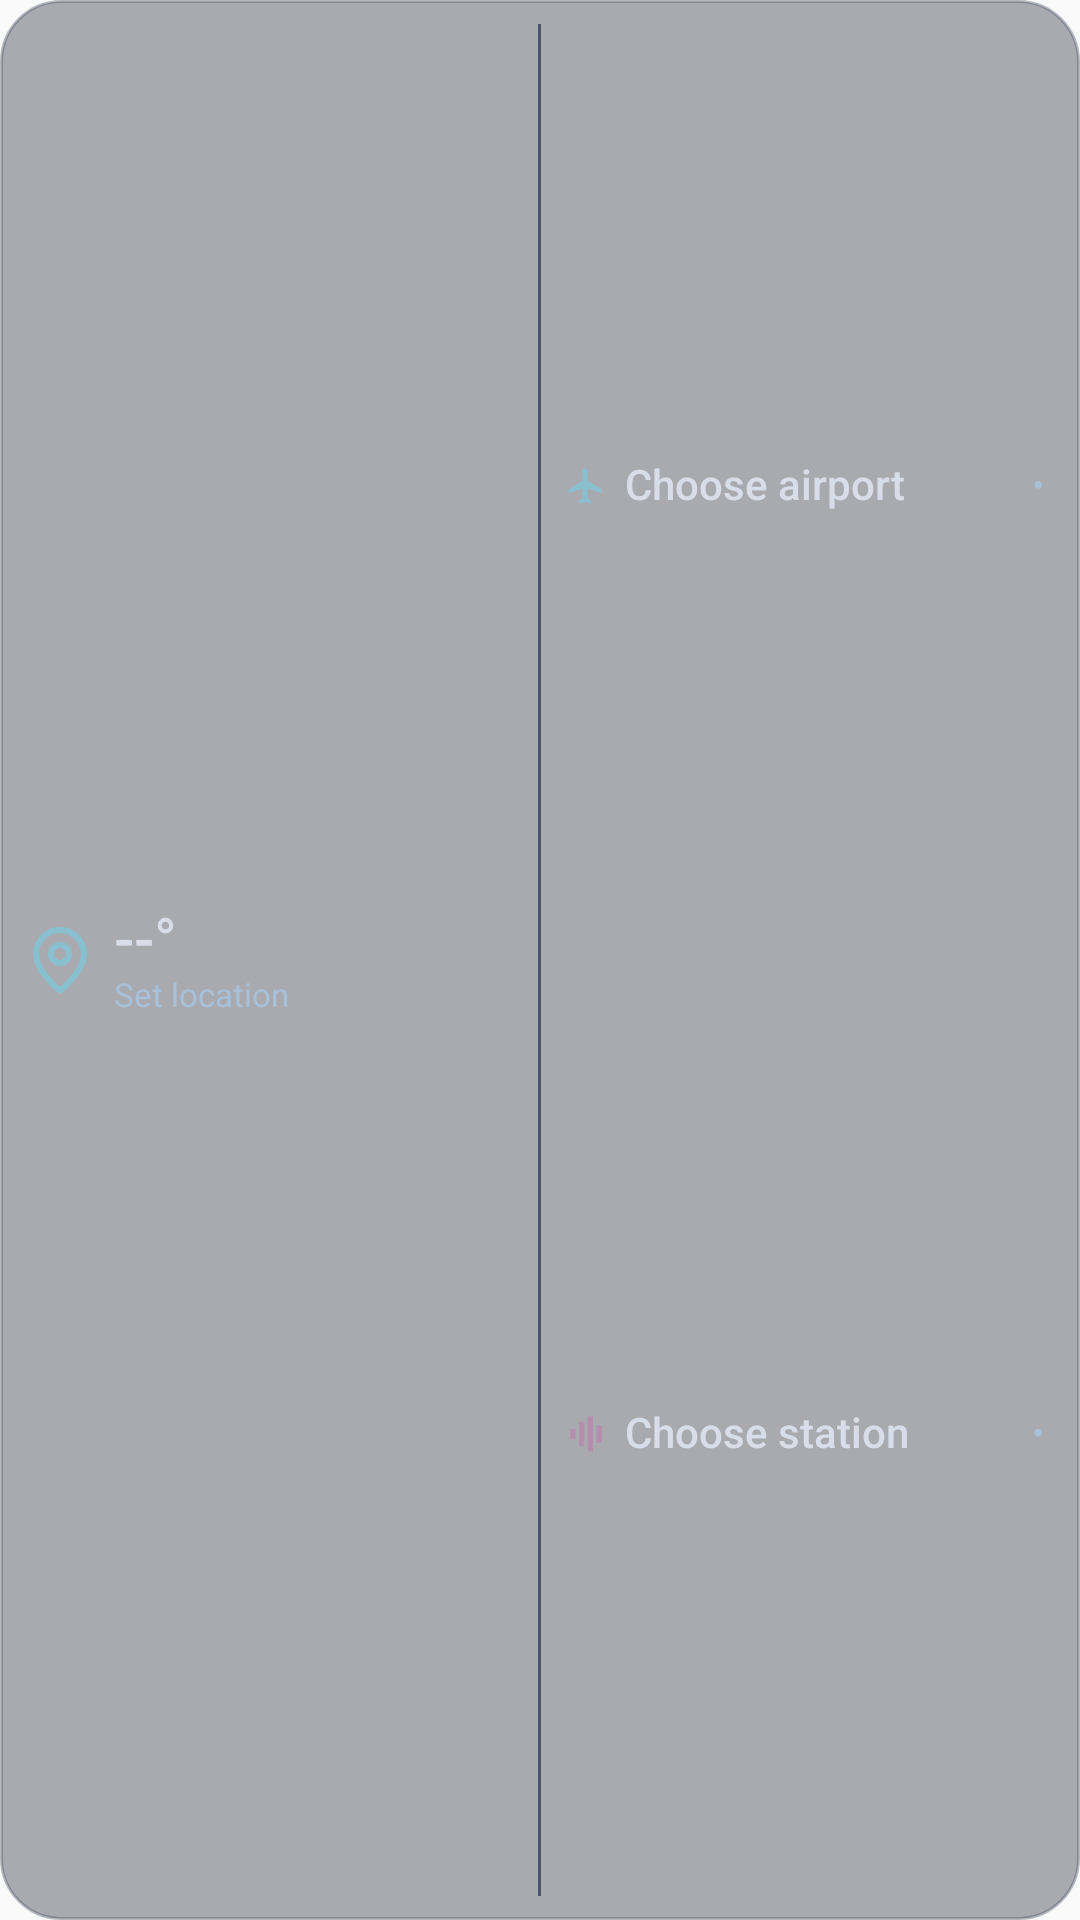

Point at icon controls on the screen. Image size 1080x1920, points as (x,y).
widget airport: (585,486)
widget radio: (586,1434)
widget weather location: (60,960)
